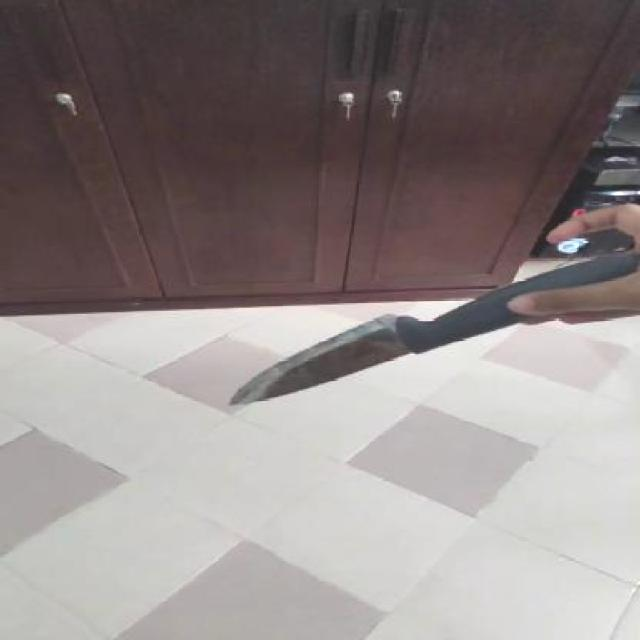knife: (215, 286, 454, 423)
